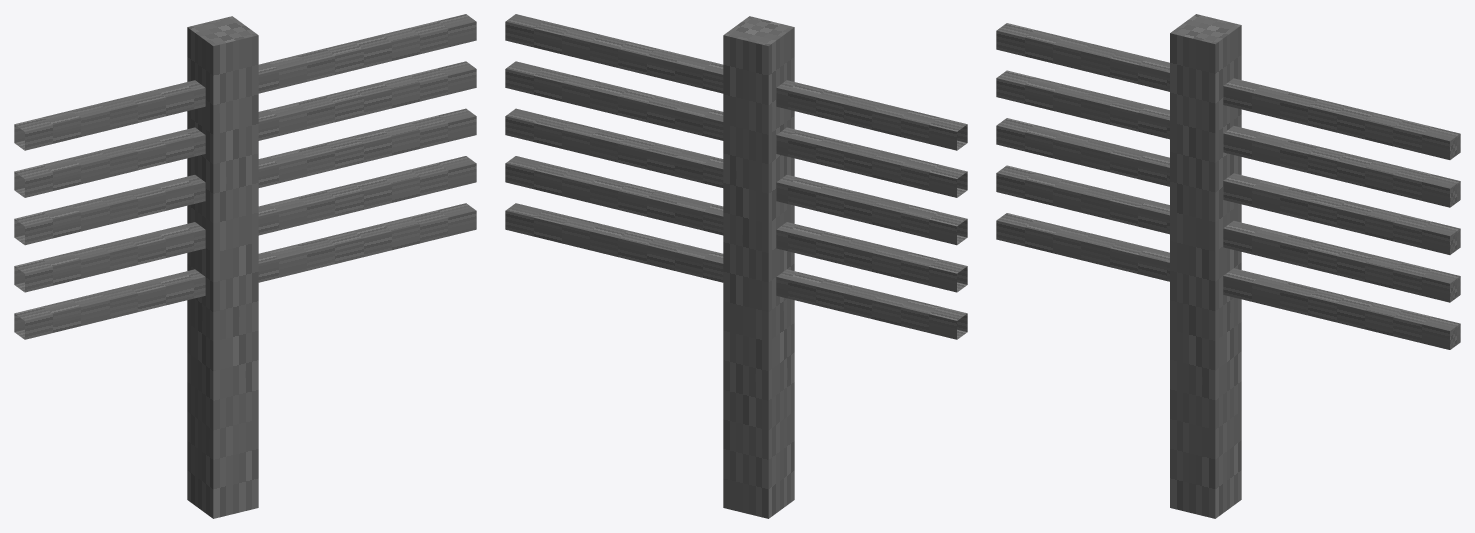
The model's file is antenna.obj.
3 renders of one model, left to right at view 1: azimuth 30°, elevation 25°; view 2: azimuth 150°, elevation 25°; view 3: azimuth 330°, elevation 25°, orthographic.
Parts seen in each view (by area): view 1: Cube; view 2: Cube; view 3: Cube.
Boxes of the visible parts, bbox=[...] form: Cube: bbox=[14, 14, 476, 518]; Cube: bbox=[505, 14, 967, 518]; Cube: bbox=[996, 14, 1460, 518].
Size of the model in its own units: 1 by 1 by 0.1.
